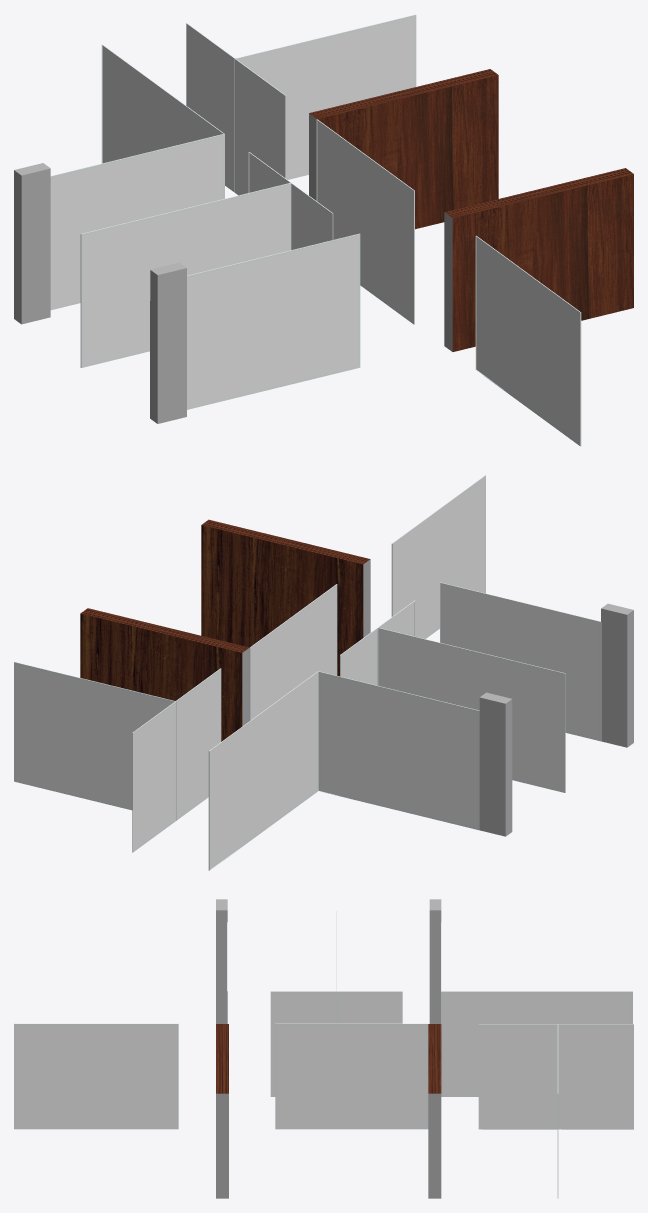
Rendered from paredes_interno.glb.
3 views of the same model, one above another, from view 1: azimuth 30°, elevation 25°; view 2: azimuth 150°, elevation 25°; view 3: azimuth 270°, elevation 25° (orthographic). The views are drawn at different scales.
Visible parts, largest first — view 1: a_1_export.001, columna1.013, a_1_export.004, columna1.015, a_1_export.003, a_1_export.002, a_1_export.009, a_1_export.008, a_1_export.007, pared vidrio 1.008, pared vidrio 1.009, a_1_export.011 (+3 smaller); view 2: a_1_export.002, columna1.013, a_1_export.009, a_1_export.004, a_1_export.007, a_1_export.001, columna1.015, a_1_export.003, a_1_export.008, a_1_export.010, a_1_export.011, pared vidrio 1.009 (+3 smaller); view 3: a_1_export.003, a_1_export.008, a_1_export.007, a_1_export.011, a_1_export.010, a_1_export.005, columna1.015, columna1.013, a_1_export.006, pared vidrio 1.009, pared vidrio 1.008.
Boxes of the visible parts, x1,y1,x2,y2 form: a_1_export.001: (187, 233, 360, 409); columna1.013: (444, 168, 633, 351); a_1_export.004: (80, 183, 290, 367); columna1.015: (309, 69, 498, 229); a_1_export.003: (475, 235, 581, 446); a_1_export.002: (50, 134, 224, 310); a_1_export.009: (235, 14, 416, 179); a_1_export.008: (316, 119, 414, 324); a_1_export.007: (101, 44, 224, 198); pared vidrio 1.008: (150, 262, 186, 423); pared vidrio 1.009: (14, 163, 50, 324); a_1_export.011: (235, 59, 285, 195); a_1_export.002: (318, 671, 479, 830); columna1.013: (201, 519, 370, 676); a_1_export.009: (14, 662, 175, 810); a_1_export.004: (378, 627, 565, 792); a_1_export.007: (208, 671, 318, 870); a_1_export.001: (440, 582, 601, 741); columna1.015: (80, 608, 249, 741); a_1_export.003: (391, 475, 485, 638); a_1_export.008: (249, 584, 337, 720); a_1_export.010: (132, 701, 175, 852); a_1_export.011: (175, 668, 221, 820); pared vidrio 1.009: (479, 692, 512, 836); a_1_export.003: (14, 1023, 178, 1129); a_1_export.008: (275, 1023, 428, 1129); a_1_export.007: (441, 991, 632, 1096); a_1_export.011: (478, 1024, 557, 1129); a_1_export.010: (558, 1024, 633, 1129); a_1_export.005: (270, 991, 336, 1096); columna1.015: (428, 1024, 441, 1198); columna1.013: (216, 1024, 228, 1198); a_1_export.006: (336, 991, 402, 1023); pared vidrio 1.009: (429, 899, 441, 1023); pared vidrio 1.008: (216, 899, 227, 1023).
Size of the model in its own units: 58.8 by 17.58 by 84.4.
5 materials, 1 textured.
